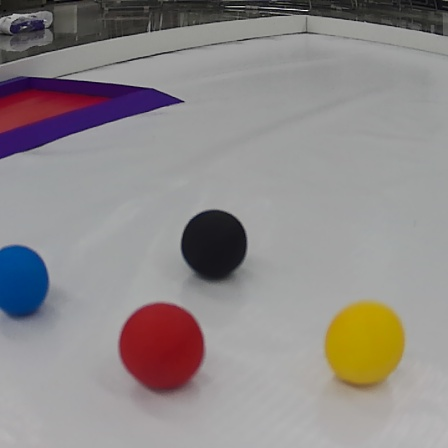black: (180, 209, 247, 282)
blue: (0, 242, 51, 321)
red: (119, 301, 209, 392)
red_aim: (0, 71, 198, 163)
yellow: (323, 300, 407, 390)
